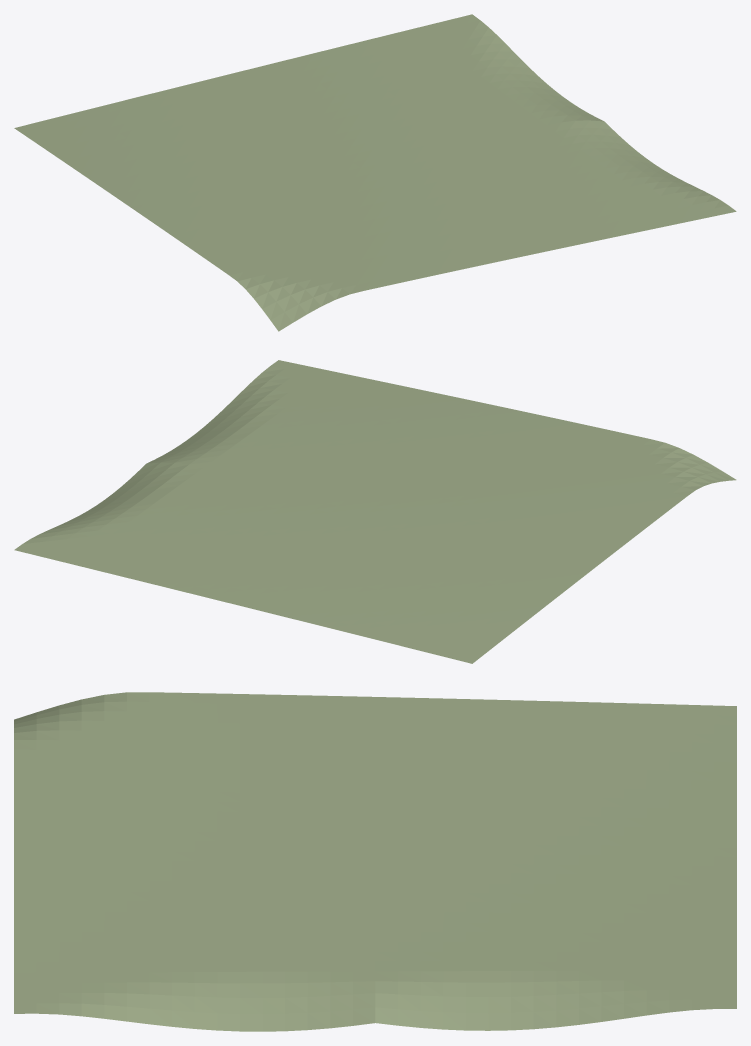
The model's file is gardens-2-0.glb.
3 renders of one model, top to bottom at view 1: azimuth 30°, elevation 25°; view 2: azimuth 150°, elevation 25°; view 3: azimuth 270°, elevation 25°, orthographic. The views are drawn at different scales.
Visible parts, largest first — view 1: gardens-2-0; view 2: gardens-2-0; view 3: gardens-2-0.
Boxes of the visible parts, x1,y1,x2,y2 form: gardens-2-0: (14, 14, 736, 331); gardens-2-0: (14, 360, 736, 663); gardens-2-0: (14, 692, 736, 1031).
Bounding box in the file's own units: 256 × 13.36 × 256.
